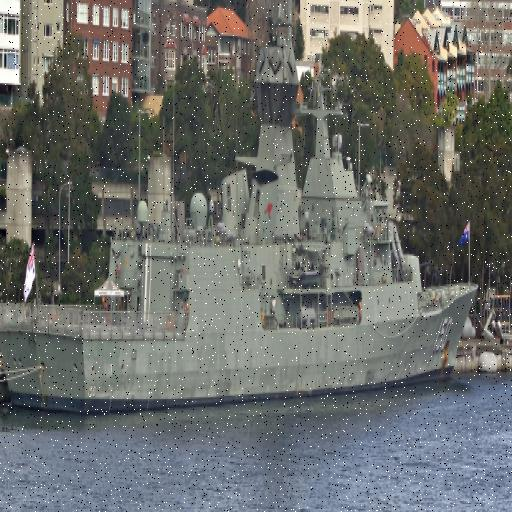Fragata: (1, 2, 486, 418)
